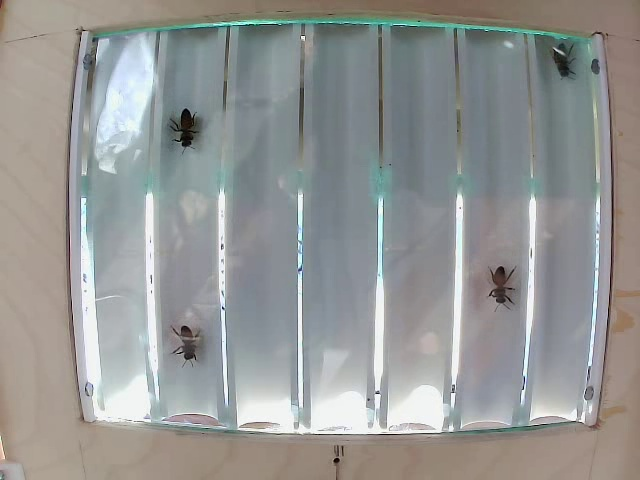bee: (163, 94, 203, 153), (165, 317, 199, 364), (554, 37, 586, 83), (485, 266, 516, 310)
